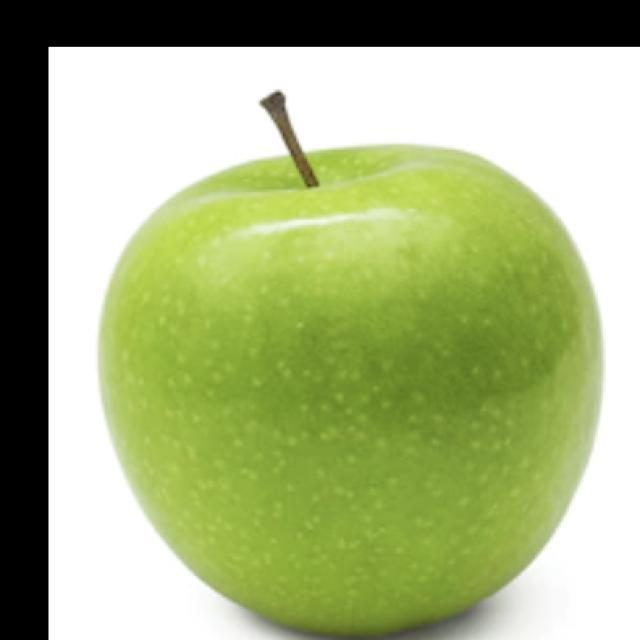Apple: (96, 89, 605, 638)
